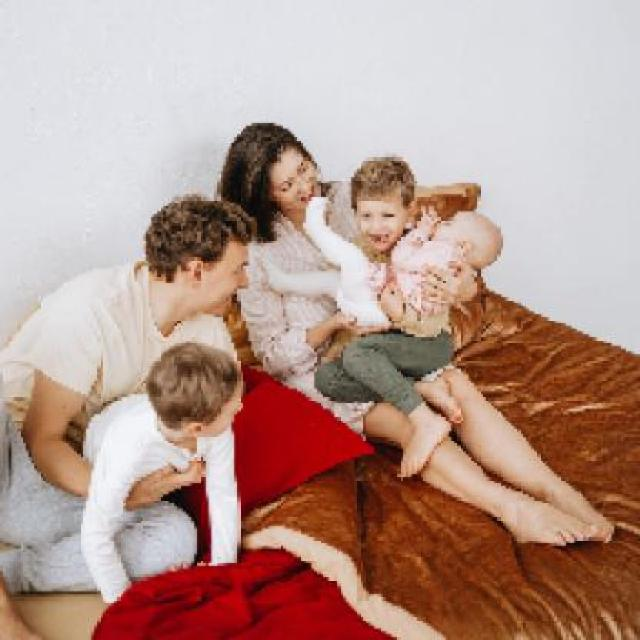child: (314, 156, 463, 482), (77, 338, 240, 602), (260, 195, 506, 331)
